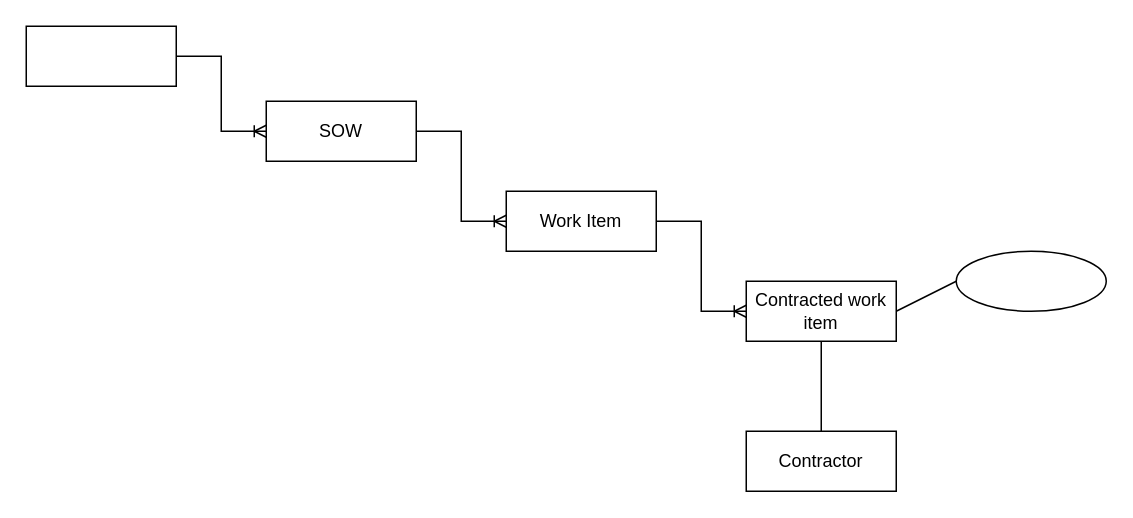
The diagram is 1133 pixels wide and 518 high, and some of its shapes have lost their labels. The box of each missing label's shape, as (x1, y1, x2, y2) in pixels:
Build Area: (955, 250, 1106, 311)
Project: (25, 25, 176, 86)
